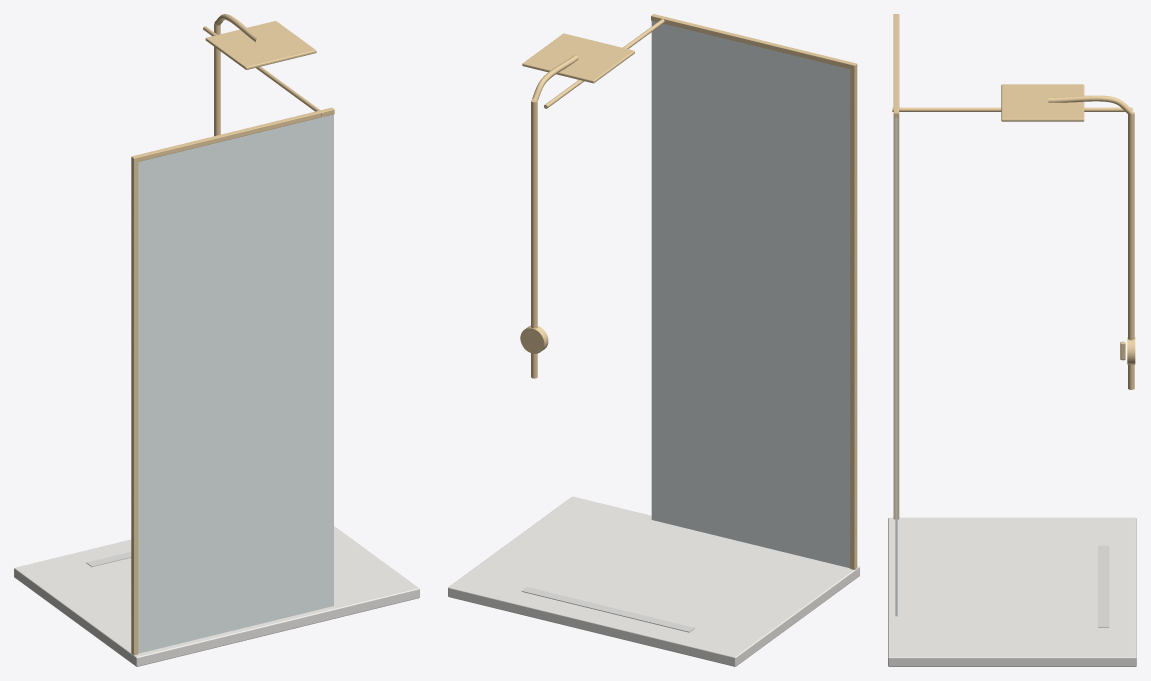
Rendered from shower_walk_in.gltf.
The picture shows the model from 3 angles, left to right: view 1: azimuth 30°, elevation 25°; view 2: azimuth 150°, elevation 25°; view 3: azimuth 270°, elevation 25°; orthographic projection.
Visible parts, largest first — view 1: clear_glass, quartz_white, brushed_brass; view 2: clear_glass, quartz_white, brushed_brass, brushed_steel; view 3: quartz_white, brushed_brass, clear_glass, brushed_steel.
Boxes of the visible parts, bbox=[...] form: clear_glass: bbox=[132, 114, 333, 654]; quartz_white: bbox=[14, 526, 419, 666]; brushed_brass: bbox=[131, 14, 334, 655]; clear_glass: bbox=[651, 21, 856, 569]; quartz_white: bbox=[448, 496, 859, 666]; brushed_brass: bbox=[520, 14, 857, 569]; brushed_steel: bbox=[521, 587, 694, 632]; quartz_white: bbox=[888, 517, 1136, 666]; brushed_brass: bbox=[892, 14, 1135, 519]; clear_glass: bbox=[895, 117, 897, 616]; brushed_steel: bbox=[1098, 545, 1109, 627].
Size of the model in its own units: 1.2 by 2.12 by 0.9.
